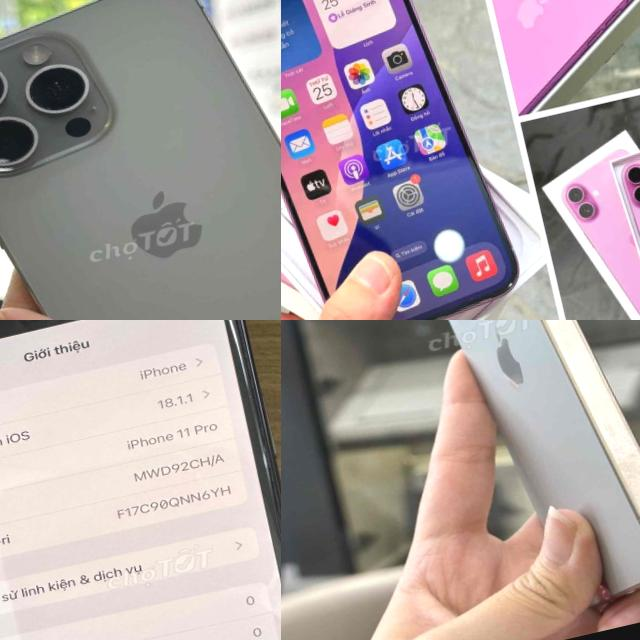gen_11: (0, 320, 281, 640)
gen_15: (344, 320, 640, 640), (0, 0, 281, 320)
gen_16: (281, 0, 530, 320)
